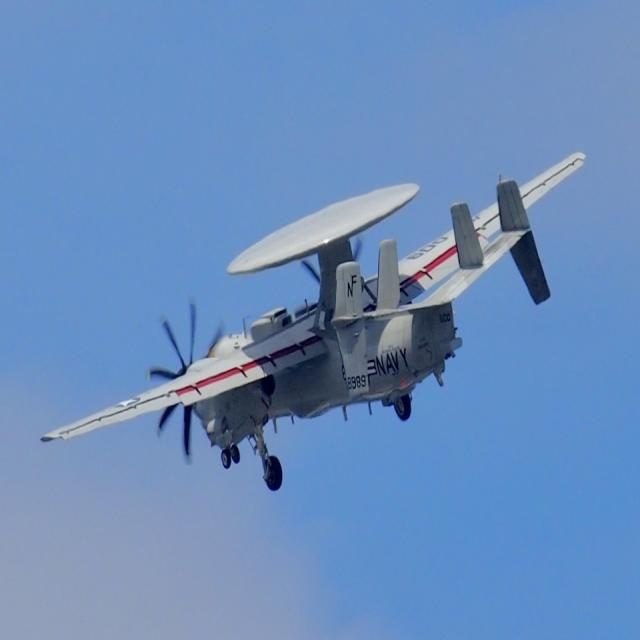MIL_Plane: (35, 151, 581, 492)
